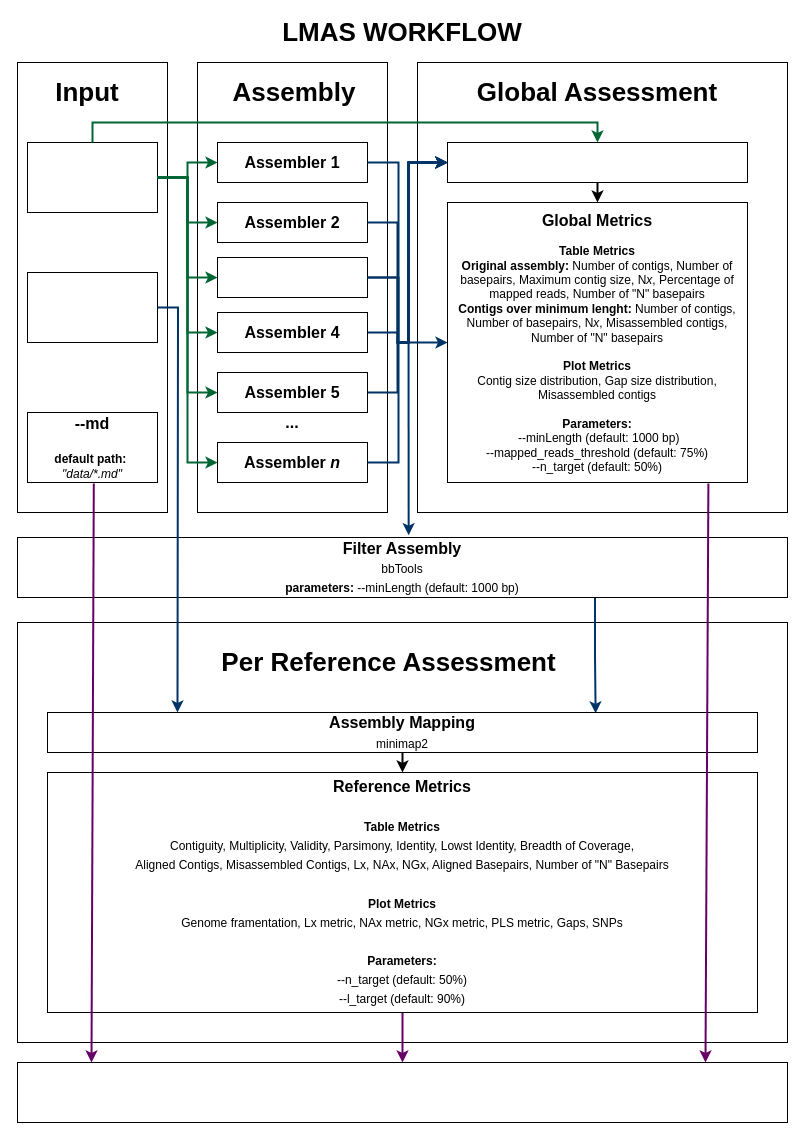
Image size: 805x1140. Some labels were removed from this diagram. The shapes that lost their labels are listed below. From the top down, each one's centre as x and y in pixels, then its label:
the point at 92,177: --fastq default path: "data/fastq/*_{1,2}*"
the point at 597,162: Read Mapping minimap2
the point at 292,277: Assembler 3
the point at 92,307: --reference default path: "data/reference/*.fasta"
the point at 402,1092: Iteractive Report
